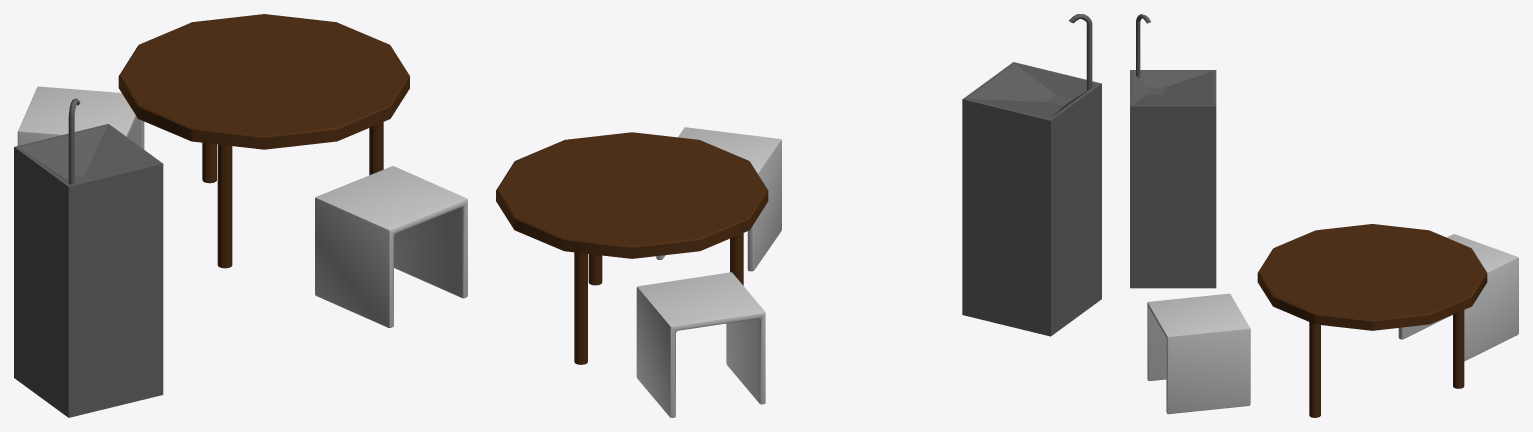
Rendered from Break Area.FBX.
The picture shows the model from 3 angles, left to right: view 1: azimuth 30°, elevation 25°; view 2: azimuth 150°, elevation 25°; view 3: azimuth 270°, elevation 25°; orthographic projection. The views are drawn at different scales.
Parts seen in each view (by area): view 1: Fountain, Table, Stool (×2); view 2: Fountain, Table, Stool (×2); view 3: Table, Fountain, Stool (×2).
Part boxes in pixels (<box>): Fountain: <box>14,98,163,417</box>; Table: <box>118,14,409,268</box>; Stool (×2): <box>17,86,467,328</box>; Fountain: <box>962,14,1101,336</box>; Table: <box>496,132,768,364</box>; Stool (×2): <box>636,127,781,417</box>; Table: <box>1257,224,1487,417</box>; Fountain: <box>1130,14,1216,288</box>; Stool (×2): <box>1147,234,1518,414</box>.
Bounding box in the file's own units: 75.38 × 67.68 × 46.72.
